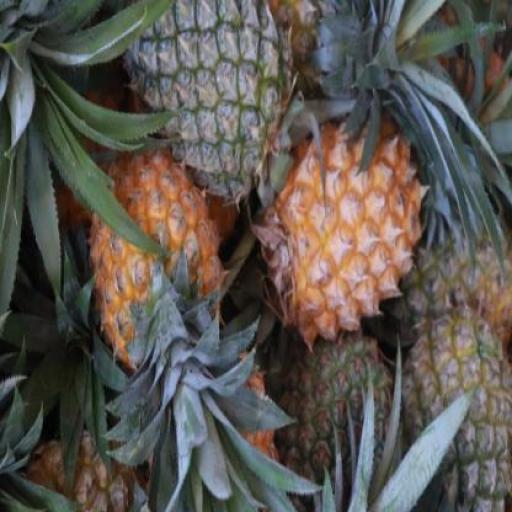------------------------------: (402, 310, 511, 511)
Pineapple - v8 v1: (262, 114, 427, 344), (86, 151, 224, 370)
